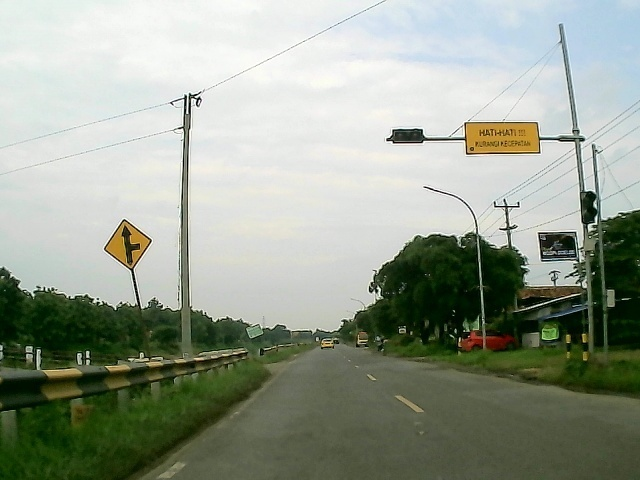Simpang kanan dengan prioritas: (97, 215, 154, 273)
